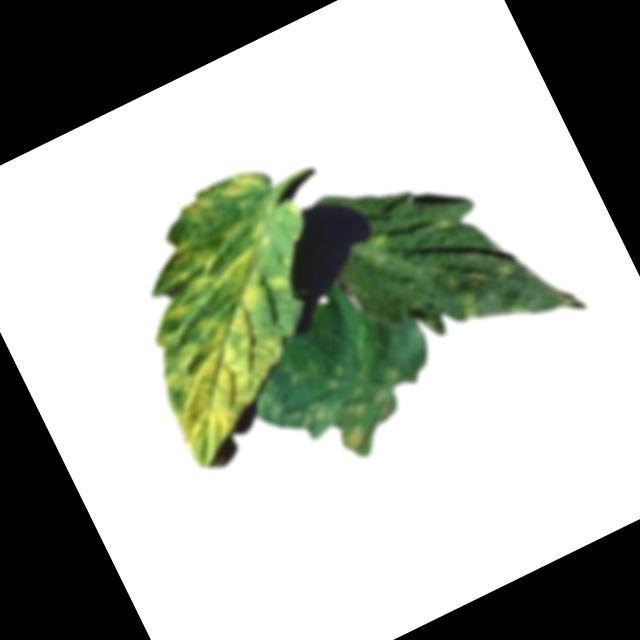Leaf_Mold: (85, 154, 381, 469), (292, 368, 409, 469), (479, 251, 524, 290), (452, 288, 489, 328)
